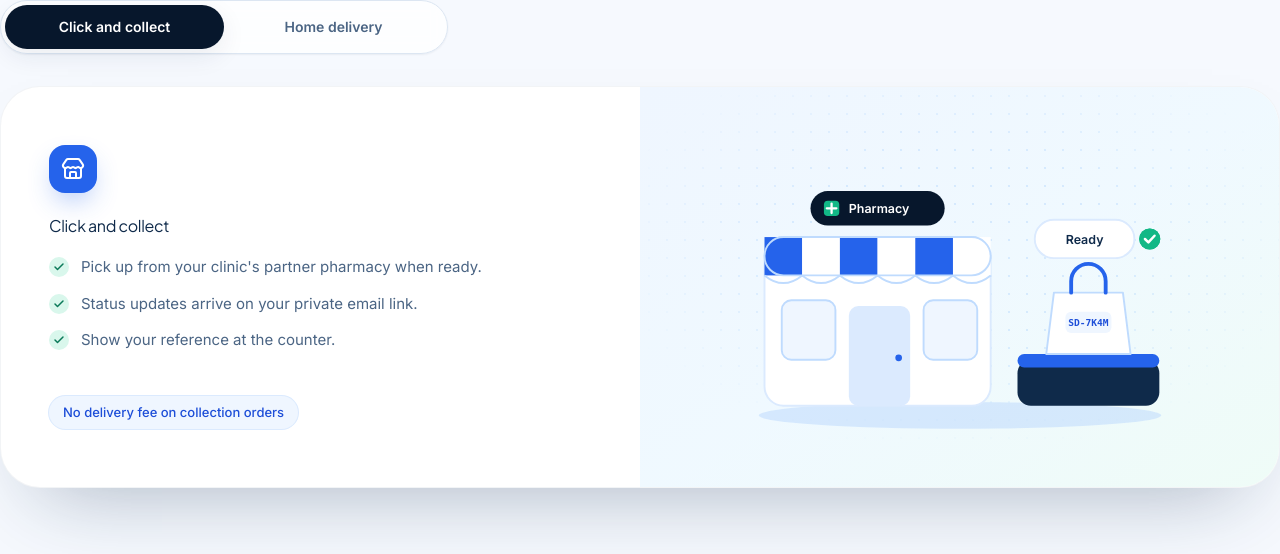
Test case: FulfilmentToggle › swaps panels when the option changes
The image size is (1280, 554).
Click the radio button labelled "Home delivery".
click(334, 26)  # box [284,18,382,35]
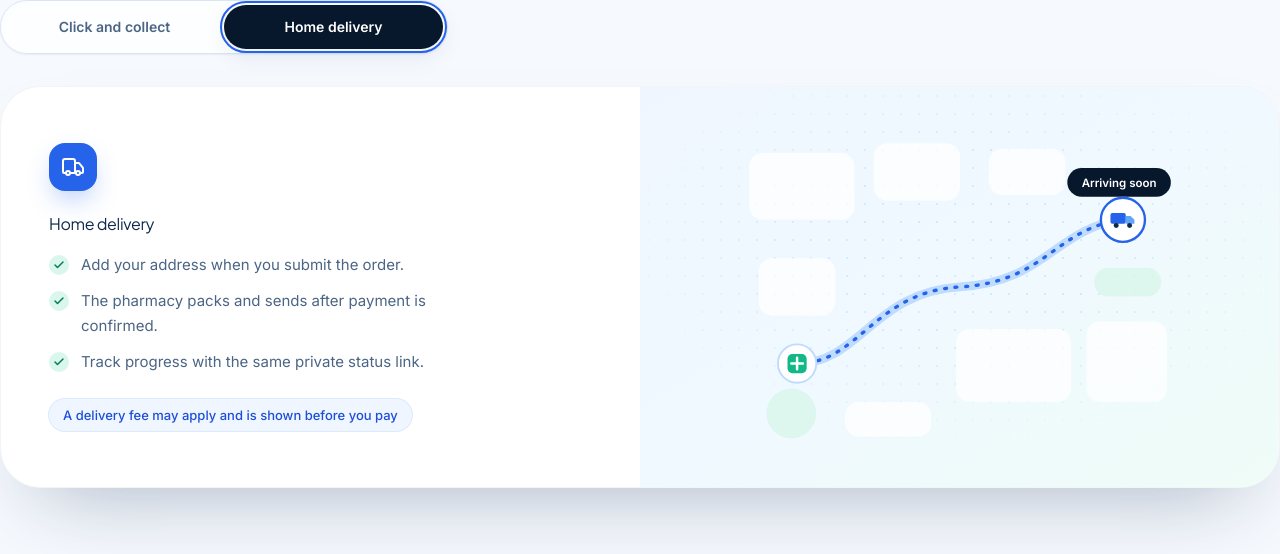
Expected: the heading "Home delivery" is shown, [49,213,154,234]
Expected: the text "A delivery fee may apply and is shown before you pay" is shown, [49,398,412,431]
